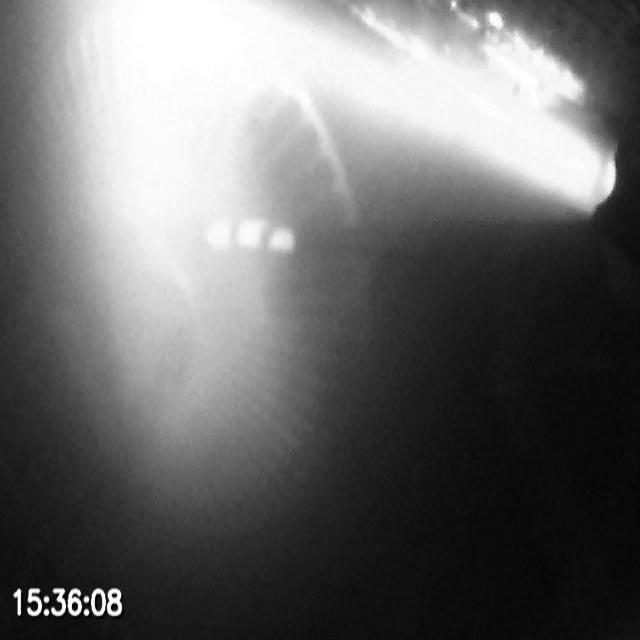white-dots: (204, 215, 296, 255)
